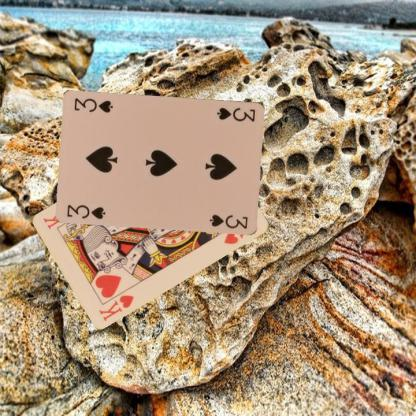3s: (214, 105, 257, 124), (64, 202, 107, 220)
Kh: (96, 292, 136, 323)
